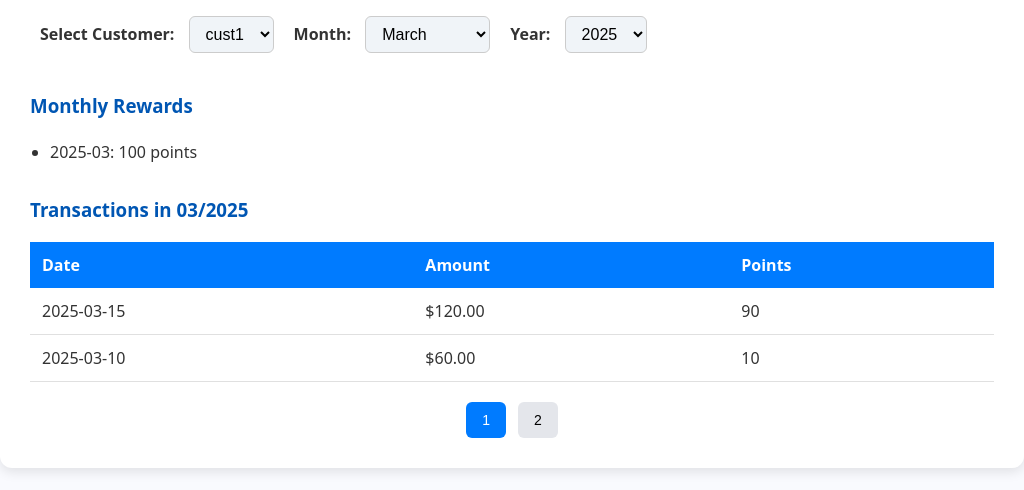
Test: RewardComponent › pagination buttons show and change page
Click the button "2" at [538, 420], box 518,402 -> 558,438
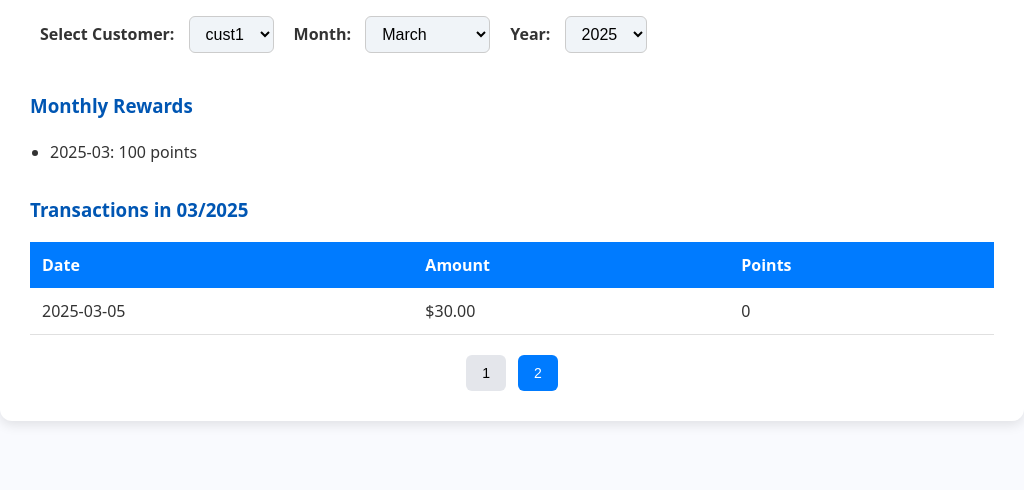
Result: the number of rows is 2 at 30,242 -> 994,288; 30,288 -> 994,334
